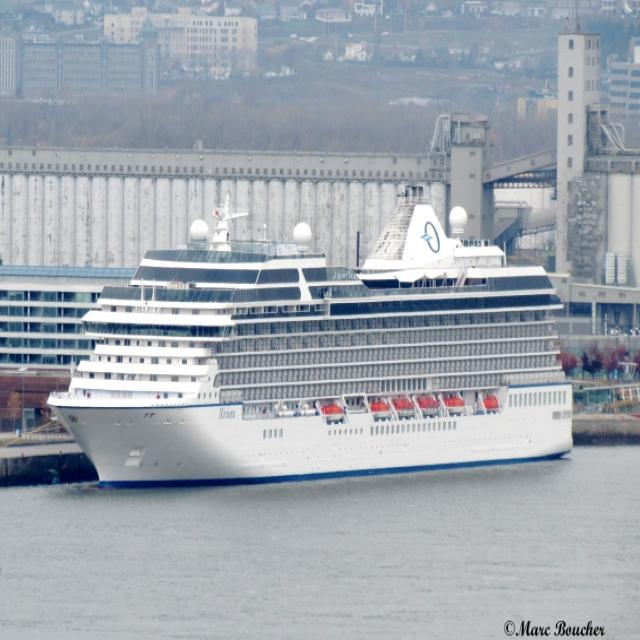cruises: (41, 174, 582, 487)
